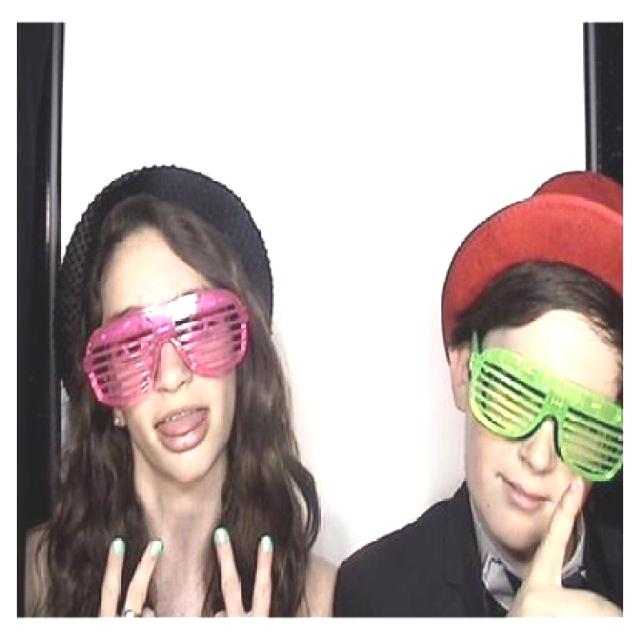face_nomask: (97, 291, 232, 464), (477, 366, 605, 520)
glasses: (465, 342, 627, 488), (80, 288, 251, 409)
head_nohelmet: (449, 219, 640, 347), (56, 154, 245, 278)
